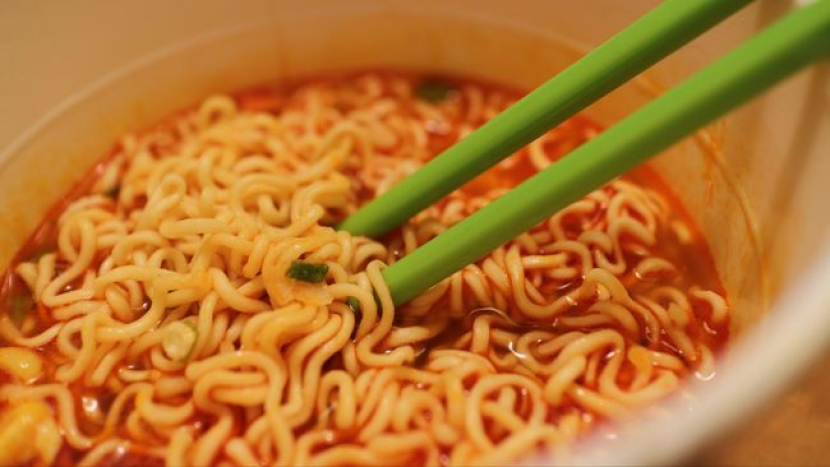Mie: (124, 59, 683, 467)
